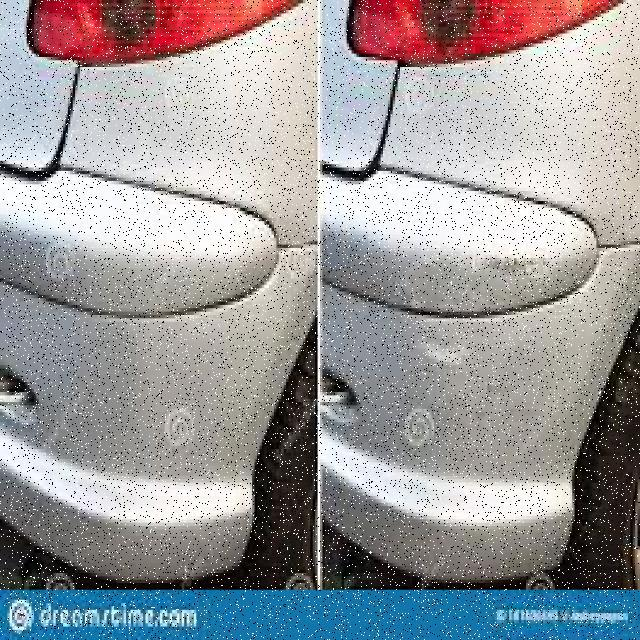rear-bumper-dent: (315, 148, 638, 577)
